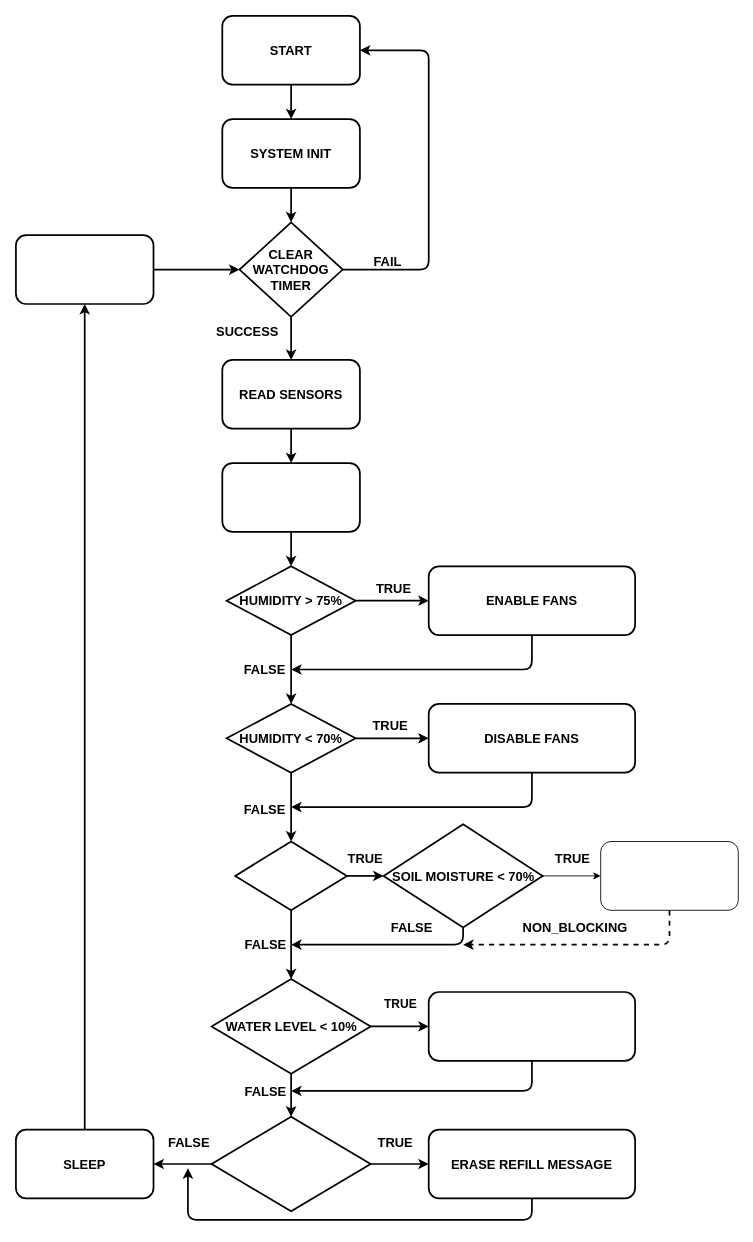
Image size: 753x1242. Some labels were removed from this diagram. Each missing label, with the centre of its shape:
"8 HOURS PASSED" goes at (290,875).
"DISPLAY REFILL MESSAGE" goes at (531,1026).
"DISPLAY SENSORS" goes at (290,497).
"INTERRRUPT EVERY SECOND" goes at (84,269).
"START WATER PUMP (FOR 5 SECONDS)" goes at (669,875).
"WATER LEVEL > 70%" goes at (290,1163).
